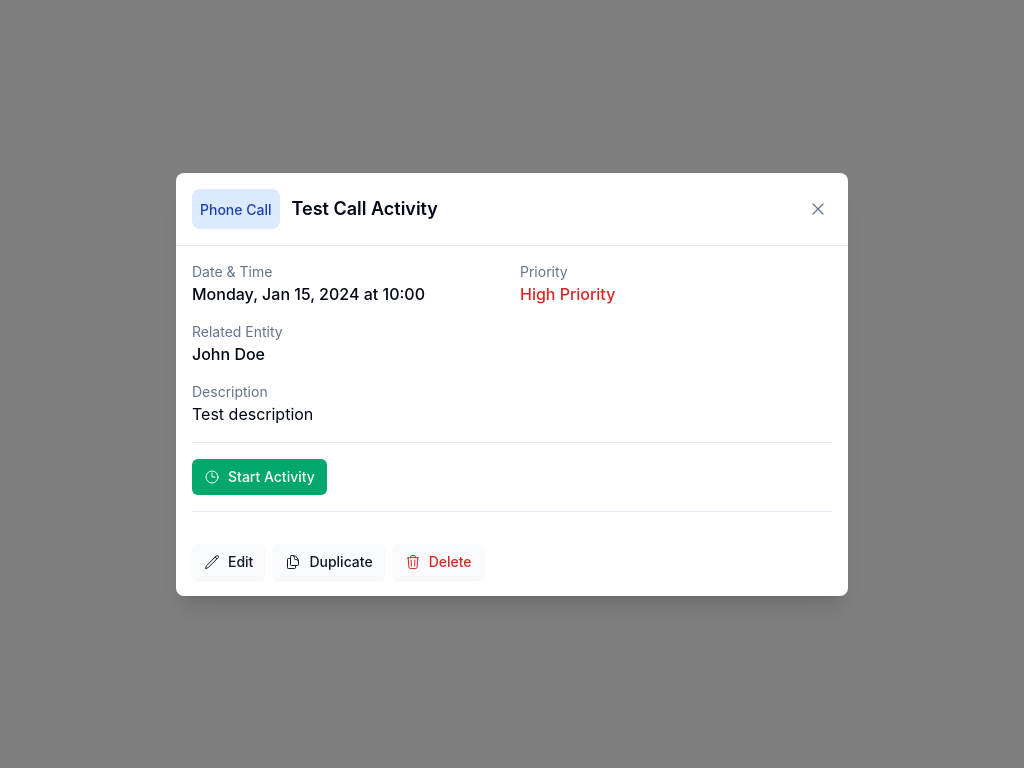
Scenario: ActivityDetails › should cancel delete when Cancel is clicked
Click the button "Delete".
click(438, 562)  # box [393,544,484,580]
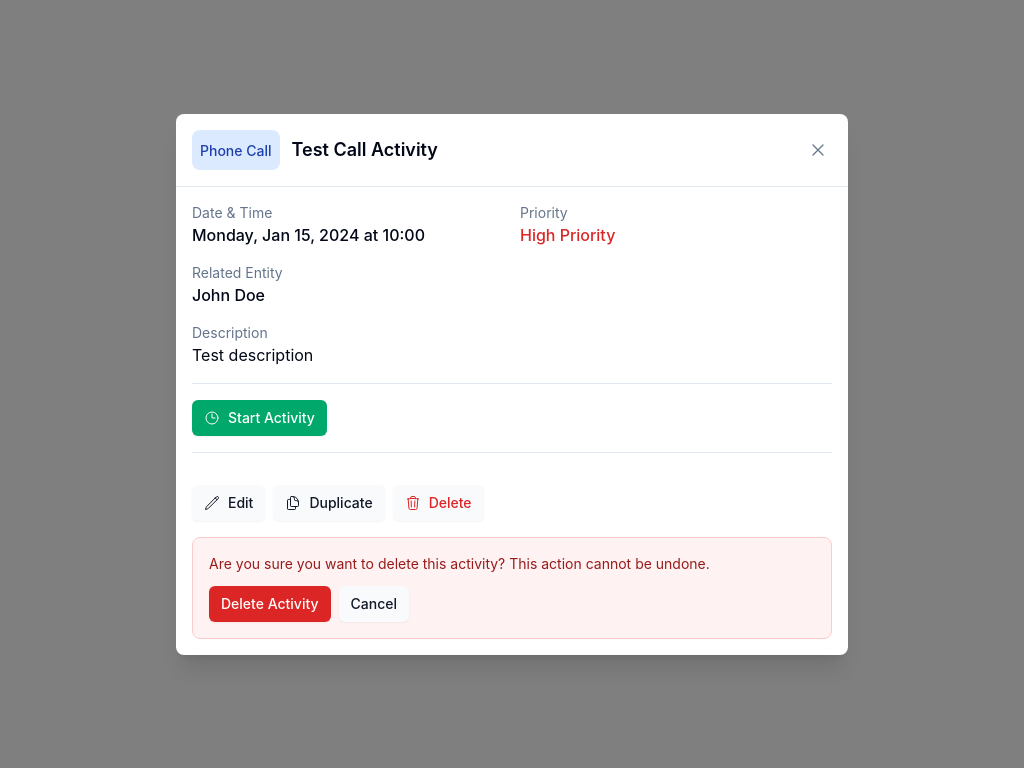
// Cancel delete - find the Cancel button
Click the button "Cancel".
click(374, 604)  # box [338,586,409,622]
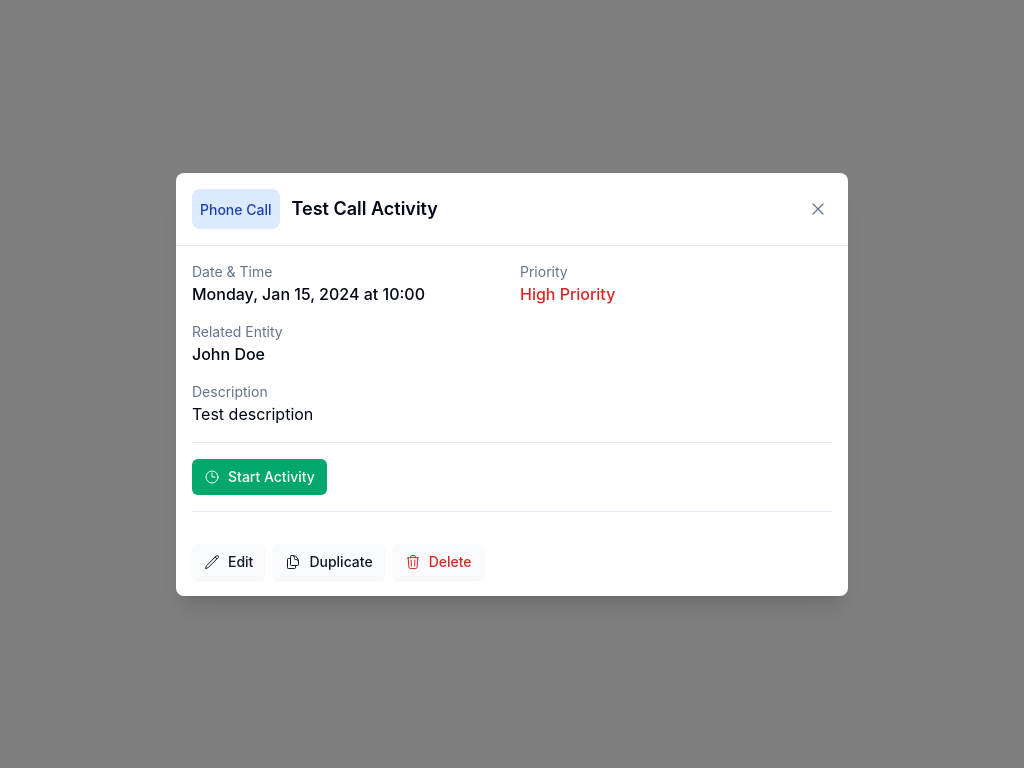
Result: the text "Are you sure you want to delete this activity?" is gone
